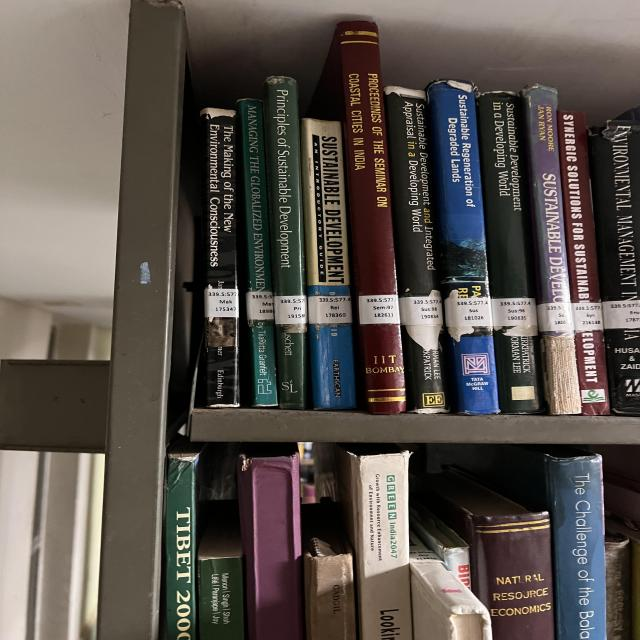Book: (308, 21, 407, 414), (427, 445, 607, 640), (427, 80, 498, 415), (417, 470, 555, 640), (477, 91, 543, 414), (385, 86, 448, 414), (522, 85, 582, 415), (557, 111, 610, 415), (302, 119, 357, 410), (588, 120, 640, 415), (335, 444, 413, 640), (263, 76, 308, 410), (238, 444, 303, 640), (237, 99, 278, 406), (202, 109, 240, 408), (410, 532, 492, 640), (302, 499, 357, 640), (165, 439, 202, 640), (198, 501, 243, 640), (410, 500, 470, 589), (605, 531, 632, 640)
Label: (445, 290, 492, 328), (398, 290, 443, 325), (492, 298, 537, 328), (308, 295, 352, 324), (358, 295, 400, 325), (602, 300, 640, 329), (537, 302, 573, 331), (273, 295, 307, 325), (205, 288, 238, 318), (572, 302, 603, 332), (247, 291, 273, 320)
